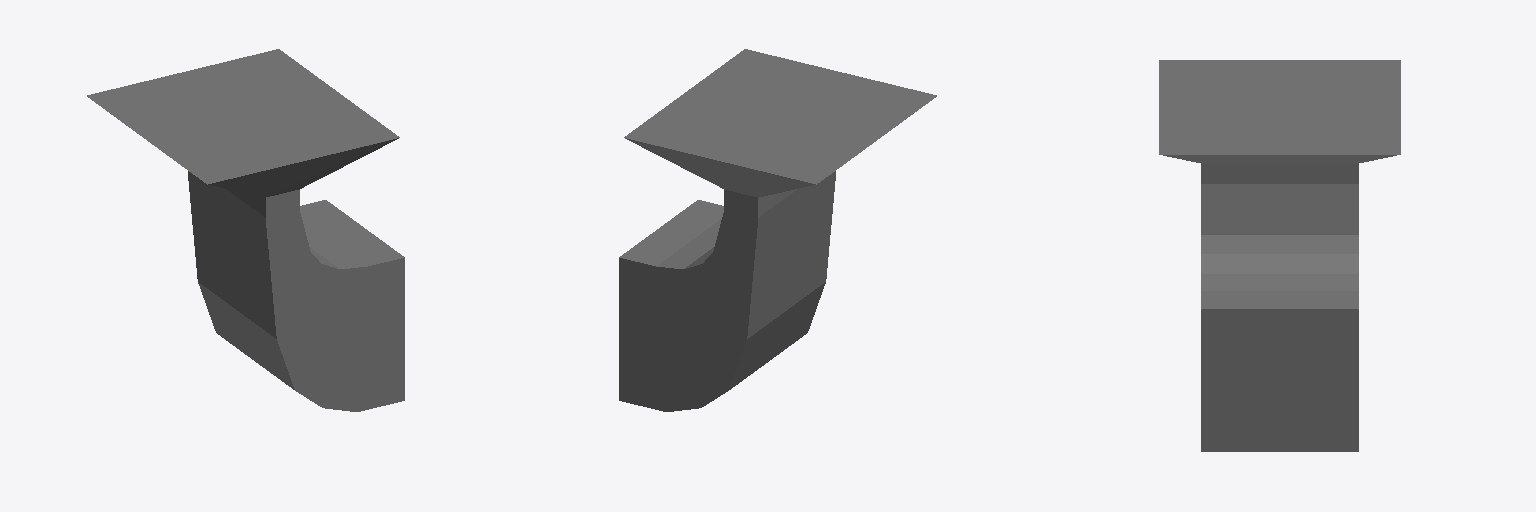
The model's file is ball_spawn_platform.obj.
3 renders of one model, left to right at view 1: azimuth 30°, elevation 25°; view 2: azimuth 150°, elevation 25°; view 3: azimuth 270°, elevation 25°, orthographic.
Visible parts, largest first — view 1: ball_spawn_platform; view 2: ball_spawn_platform; view 3: ball_spawn_platform.
Part boxes in pixels (left/top/right/bottom): ball_spawn_platform: left=87, top=49, right=404, bottom=411; ball_spawn_platform: left=619, top=49, right=936, bottom=411; ball_spawn_platform: left=1159, top=60, right=1400, bottom=451.
Size of the model in its own units: 0.1814 by 0.2257 by 0.1743.